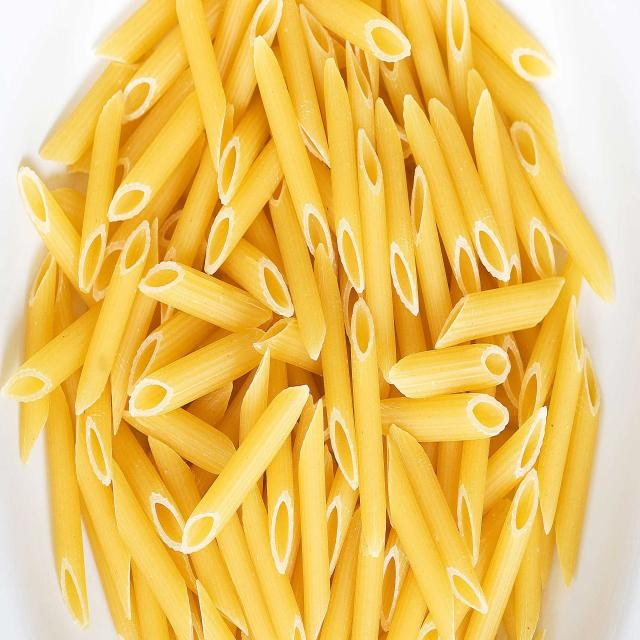pasta: (17, 3, 617, 638)
